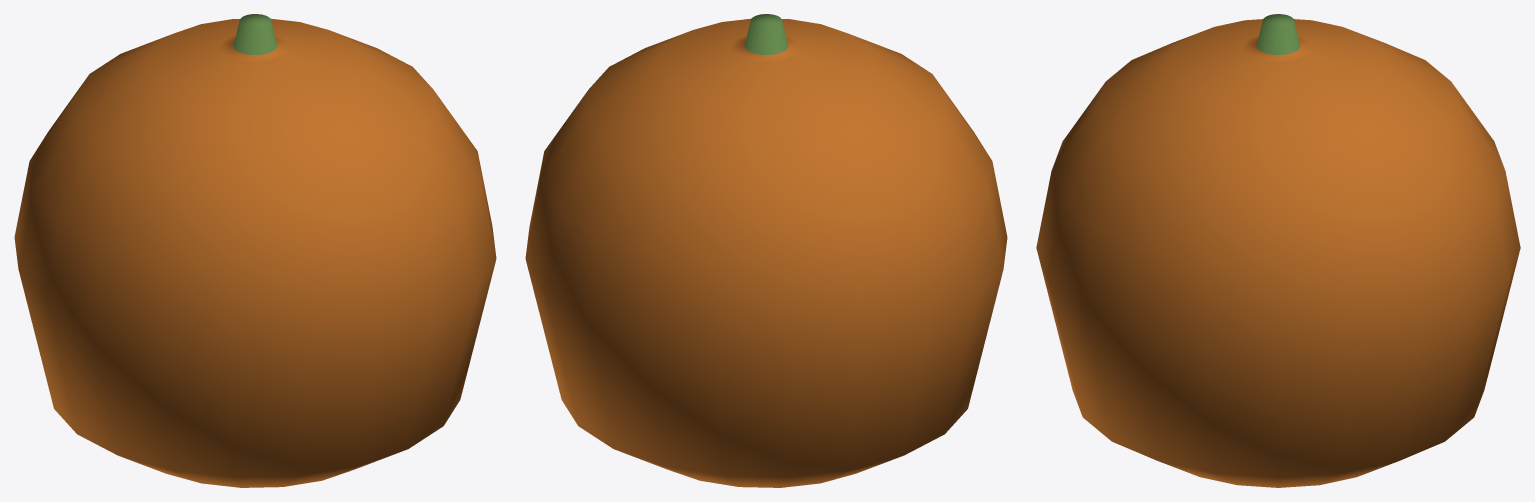
The model's file is orange.fbx.
The picture shows the model from 3 angles, left to right: view 1: azimuth 30°, elevation 25°; view 2: azimuth 150°, elevation 25°; view 3: azimuth 270°, elevation 25°; orthographic projection.
Parts seen in each view (by area): view 1: orange; view 2: orange; view 3: orange.
Part boxes in pixels (box(x1,y1,x2,y2)): orange: box(14, 14, 496, 487); orange: box(525, 14, 1007, 487); orange: box(1036, 14, 1520, 487).
Bounding box in the file's own units: 0.08 × 0.0774 × 0.08.
